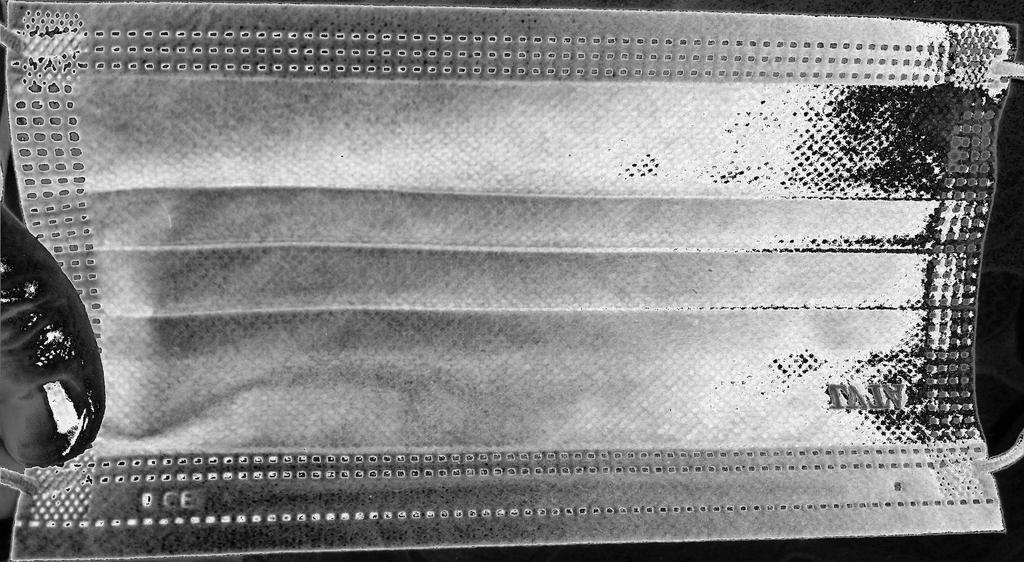High GSM: (107, 72, 1011, 448)
